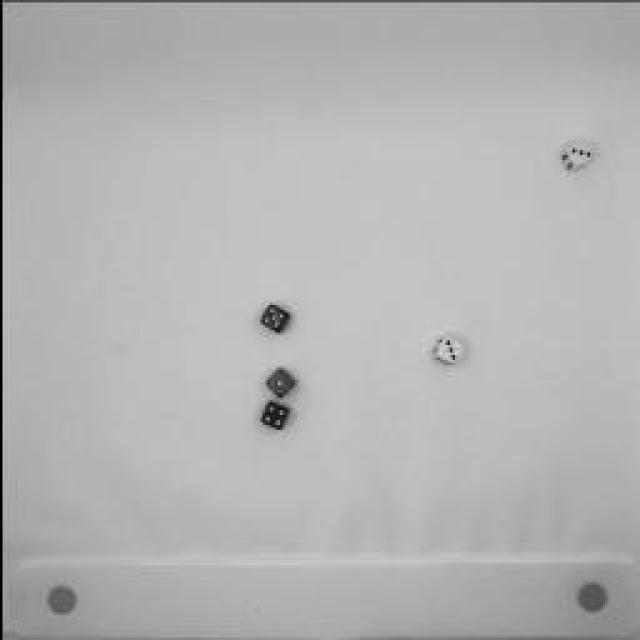dice_1: (258, 361, 300, 401)
dice_3: (555, 135, 597, 177), (426, 331, 466, 369)
dice_4: (254, 396, 288, 434)
dice_5: (254, 300, 291, 335)
